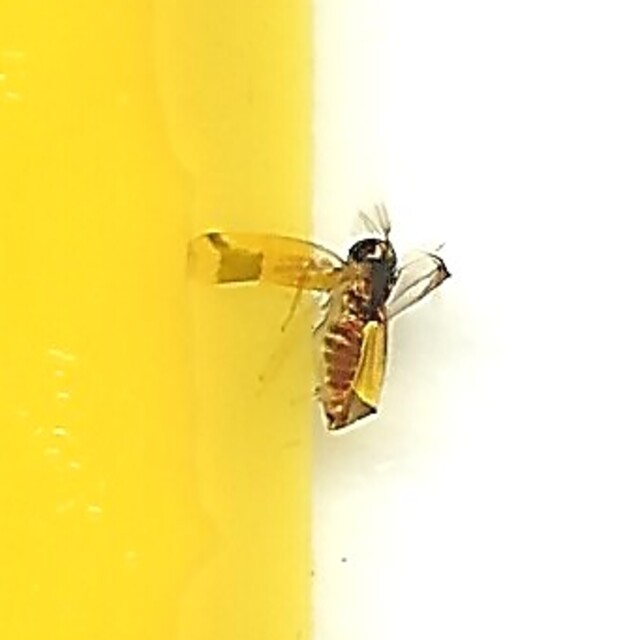Hemiptera: (188, 206, 452, 434)
